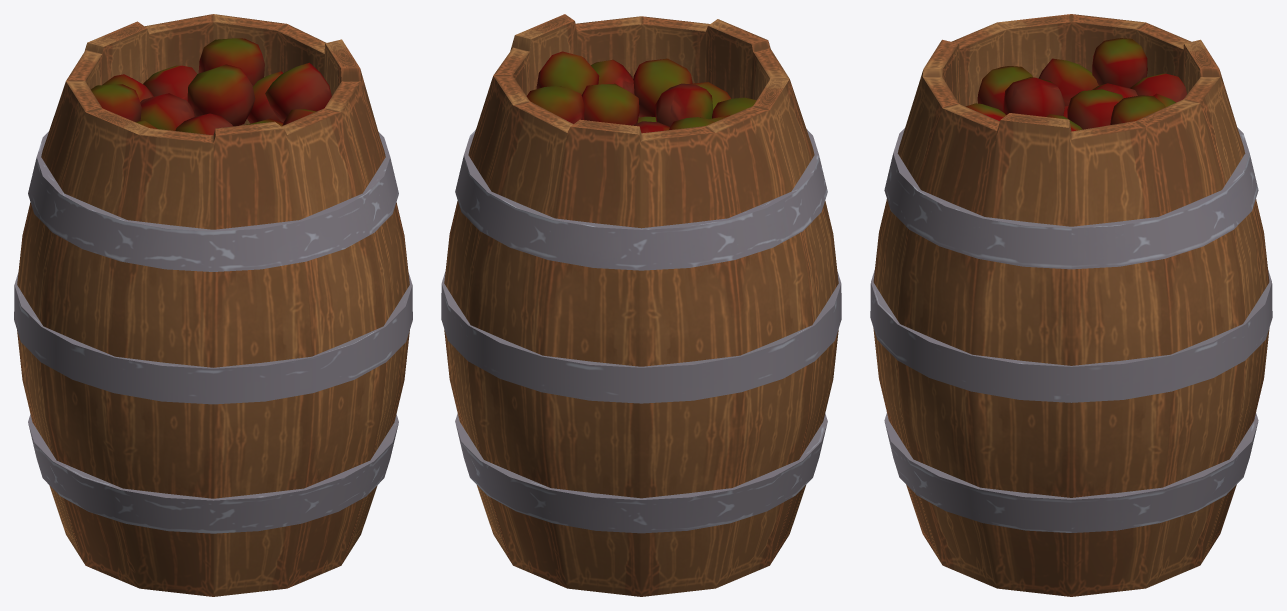
File: Barrel_Apples.gltf
3 views of the same model, side by side, from view 1: azimuth 30°, elevation 25°; view 2: azimuth 150°, elevation 25°; view 3: azimuth 270°, elevation 25° (orthographic).
Parts seen in each view (by area): view 1: Barrel_Apples; view 2: Barrel_Apples; view 3: Barrel_Apples.
Part boxes in pixels (x1,y1,x2,y2): Barrel_Apples: (14,14,412,596); Barrel_Apples: (441,14,841,596); Barrel_Apples: (870,14,1272,596).
Size of the model in its own units: 0.698 by 0.898 by 0.698.
3 materials, 3 textured.
